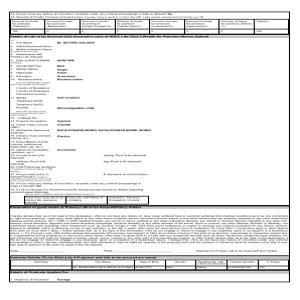table: (10, 256, 288, 272), (10, 19, 289, 34), (24, 197, 150, 206)
text: (11, 34, 211, 194), (10, 207, 289, 254)
